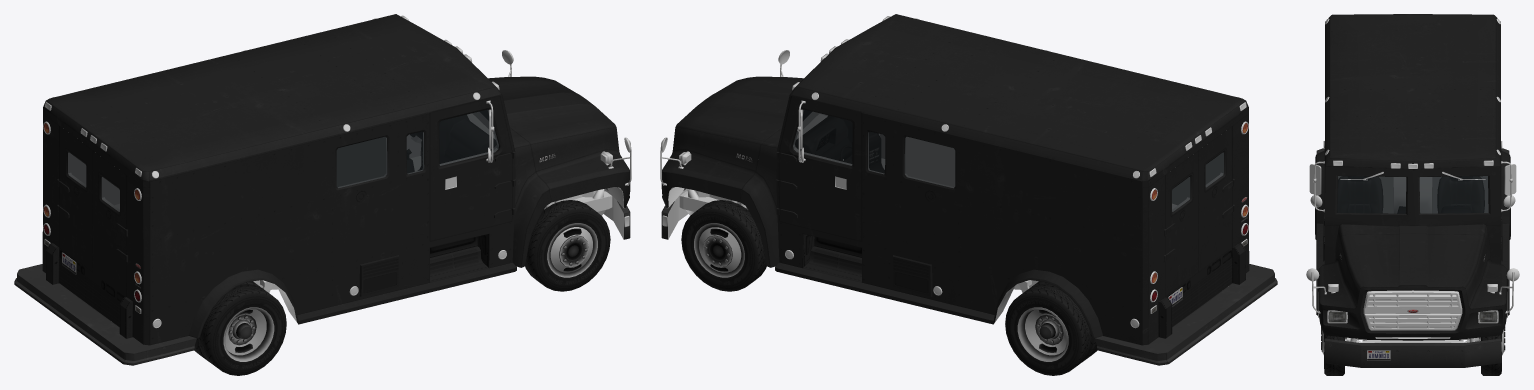
3 renders of one model, left to right at view 1: azimuth 30°, elevation 25°; view 2: azimuth 150°, elevation 25°; view 3: azimuth 270°, elevation 25°, orthographic. The views are drawn at different scales.
Parts seen in each view (by area): view 1: MD84Armored_Body, MD84Armored_Hood, MD84Armored_WheelStock_RR, MD84Armored_Bottom, MD84Armored_WheelStock_FR, MD84Armored_bumper_rear, MD84Armored_Reardoor_Left, MD84Armored_Reardoor_Right, MD84Armored_Glass_Body, MD84Armored_Glass_Passenger, MD84Armored_Interior, MD84Armored_Hood_inner; view 2: MD84Armored_Body, MD84Armored_Hood, MD84Armored_WheelStock_RL, MD84Armored_WheelStock_FL, MD84Armored_Bottom, MD84Armored_bumper_rear, MD84Armored_Reardoor_Right, MD84Armored_Reardoor_Left, MD84Armored_Glass_Body, MD84Armored_Glass_Driver, MD84Armored_Interior, MD84Armored_Hood_inner; view 3: MD84Armored_Body, MD84Armored_Hood, MD84Armored_Windshield, MD84Armored_Bottom, MD84Armored_Hood_inner, MD84Armored_bumper_front, MD84Armored_Interior, MD84Armored_WheelStock_FL, MD84Armored_Headlights_Glass, MD84Armored_WheelStock_FR, MD84Armored_Headlights, MD84Armored_Numberplate_Front.
Part boxes in pixels (box(x1,y1,x2,y2)): MD84Armored_Body: box(42, 14, 551, 345); MD84Armored_Hood: box(488, 76, 630, 207); MD84Armored_WheelStock_RR: box(194, 281, 286, 375); MD84Armored_Bottom: box(43, 15, 612, 328); MD84Armored_WheelStock_FR: box(525, 200, 610, 291); MD84Armored_bumper_rear: box(14, 264, 197, 365); MD84Armored_Reardoor_Left: box(58, 126, 92, 271); MD84Armored_Reardoor_Right: box(93, 150, 126, 296); MD84Armored_Glass_Body: box(336, 131, 424, 188); MD84Armored_Glass_Passenger: box(439, 109, 498, 165); MD84Armored_Interior: box(407, 115, 496, 173); MD84Armored_Hood_inner: box(502, 50, 631, 208); MD84Armored_Body: box(740, 14, 1249, 345); MD84Armored_Hood: box(661, 76, 803, 207); MD84Armored_WheelStock_RL: box(1005, 281, 1097, 375); MD84Armored_WheelStock_FL: box(681, 200, 766, 291); MD84Armored_Bottom: box(679, 16, 1248, 328); MD84Armored_bumper_rear: box(1094, 264, 1277, 365); MD84Armored_Reardoor_Right: box(1199, 126, 1233, 271); MD84Armored_Reardoor_Left: box(1165, 150, 1198, 296); MD84Armored_Glass_Body: box(868, 131, 955, 188); MD84Armored_Glass_Driver: box(793, 109, 852, 165); MD84Armored_Interior: box(795, 115, 884, 173); MD84Armored_Hood_inner: box(660, 50, 789, 208); MD84Armored_Body: box(1315, 14, 1510, 315); MD84Armored_Hood: box(1318, 233, 1507, 340); MD84Armored_Windshield: box(1337, 176, 1488, 213); MD84Armored_Bottom: box(1309, 18, 1516, 342); MD84Armored_Hood_inner: box(1306, 268, 1519, 338); MD84Armored_bumper_front: box(1324, 338, 1501, 367); MD84Armored_Interior: box(1337, 176, 1484, 213); MD84Armored_WheelStock_FL: box(1481, 326, 1505, 375); MD84Armored_Headlights_Glass: box(1328, 311, 1497, 322); MD84Armored_WheelStock_FR: box(1321, 327, 1344, 375); MD84Armored_Headlights: box(1329, 311, 1496, 321); MD84Armored_Numberplate_Front: box(1367, 350, 1390, 360).
Size of the model in its own units: 6.34 by 2.58 by 2.69.
